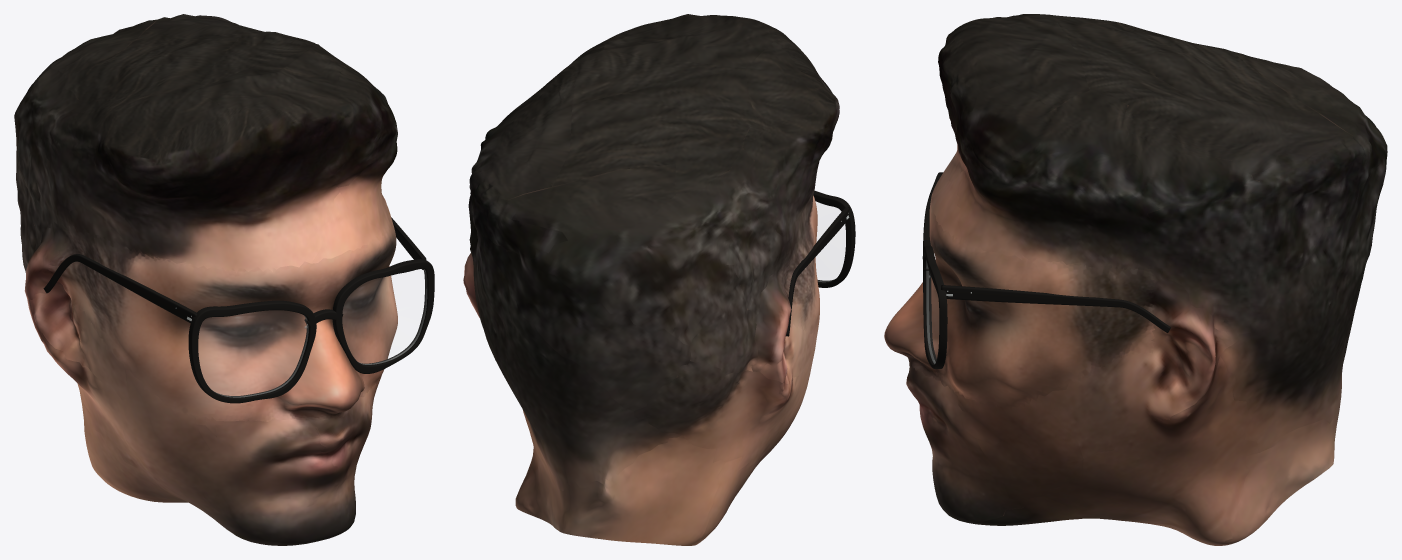
3 renders of one model, left to right at view 1: azimuth 30°, elevation 25°; view 2: azimuth 150°, elevation 25°; view 3: azimuth 270°, elevation 25°, orthographic. The views are drawn at different scales.
Parts seen in each view (by area): view 1: world, Eyeglass rim 1, Eyeglass rim 2, Eyeglass temple 1; view 2: world, Eyeglass rim 1, Eyeglass temple 1; view 3: world, Eyeglass temple 2, Eyeglass rim 2.
Part boxes in pixels (<box>): world: <box>14,14,397,545</box>; Eyeglass rim 1: <box>188,300,316,403</box>; Eyeglass rim 2: <box>332,259,434,373</box>; Eyeglass temple 1: <box>43,254,197,322</box>; world: <box>463,14,839,545</box>; Eyeglass rim 1: <box>813,190,855,287</box>; Eyeglass temple 1: <box>786,207,849,336</box>; world: <box>884,14,1387,545</box>; Eyeglass temple 2: <box>941,285,1170,332</box>; Eyeglass rim 2: <box>923,246,947,368</box>.
Bounding box in the file's own units: 0.2263 × 0.3074 × 0.2949.
Materials: 7 (1 with a texture image).
